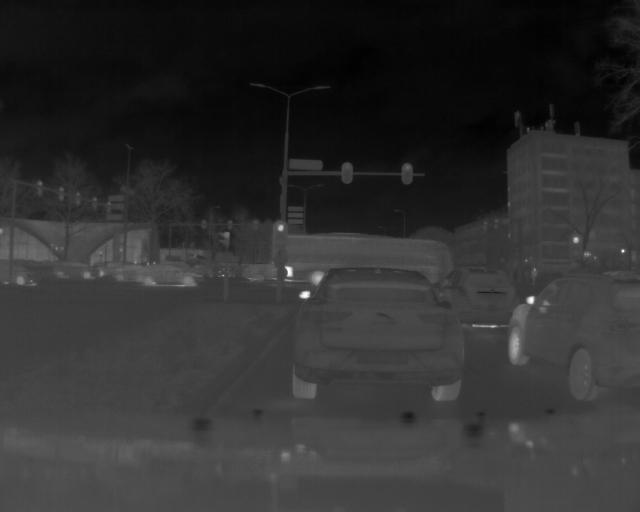car: (287, 261, 468, 407), (507, 274, 640, 405), (434, 264, 528, 334), (139, 262, 207, 291), (50, 258, 106, 282)
